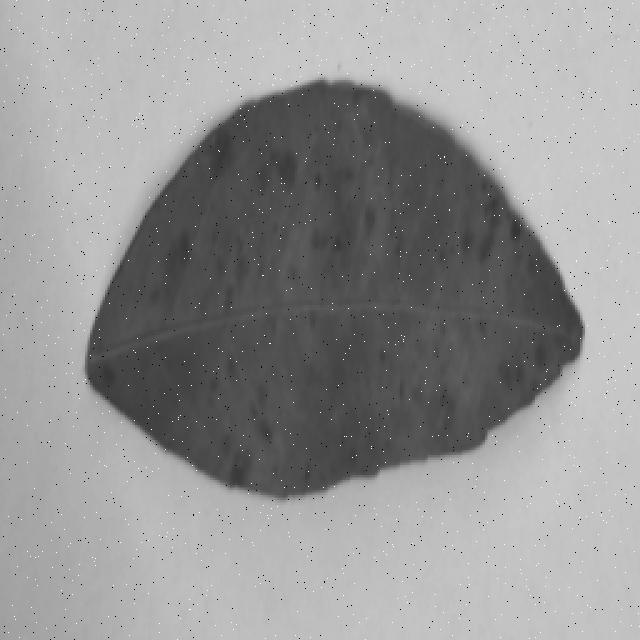blackspot: (85, 77, 592, 520)
